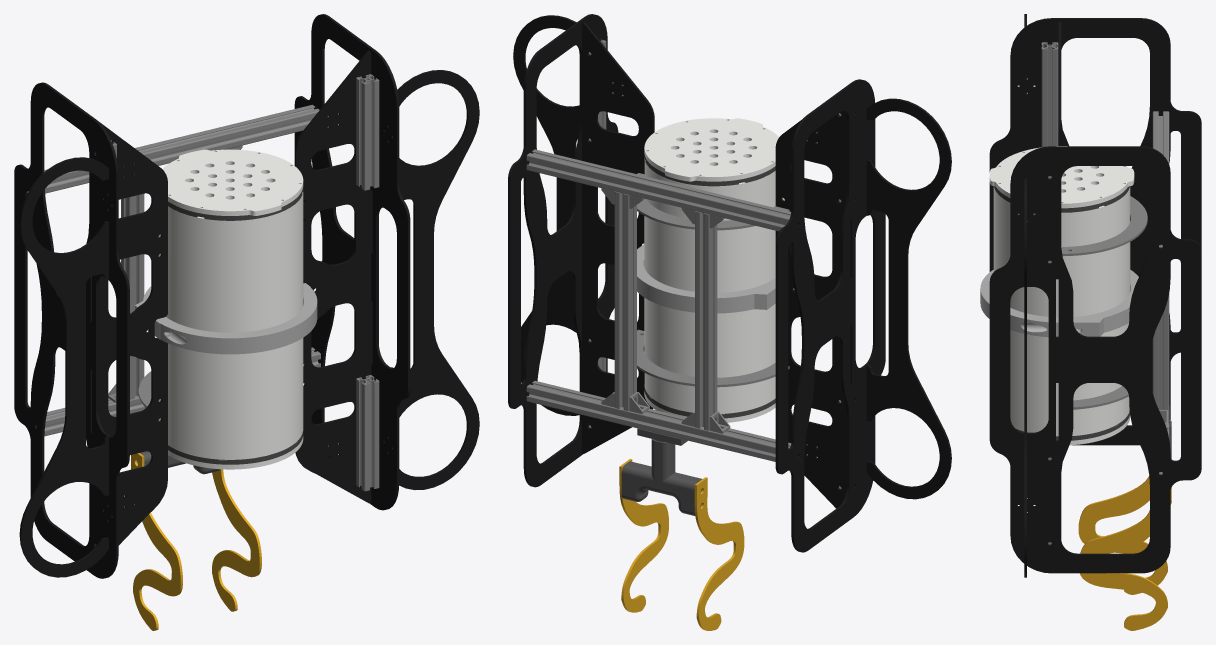
The model's file is jona.fbx.
3 views of the same model, side by side, from view 1: azimuth 30°, elevation 25°; view 2: azimuth 150°, elevation 25°; view 3: azimuth 270°, elevation 25° (orthographic). The views are drawn at different scales.
Visible parts, largest first — view 1: Body1 (×8), Body3 (×2), Body2 (×3), Top Clamp, Body11, Body10, Left Acrylic, RightAcrylic, Body12; view 2: Body1 (×6), Body2 (×3), Body3 (×2), Body13, Body12, Mount, Middle, RightAcrylic, Left Acrylic, Front, Back; view 3: Body1 (×5), Body2 (×3), Left Acrylic, RightAcrylic, Body9, Body3 (×2), Body13, Middle, Back, Top Clamp, Front.
Part boxes in pixels (x1,y1,x2,y2): Body1 (×8): [14, 14, 410, 578]; Body3 (×2): [294, 50, 479, 503]; Body2 (×3): [44, 104, 319, 545]; Top Clamp: [154, 283, 317, 354]; Body11: [356, 74, 379, 190]; Body10: [356, 375, 379, 491]; Left Acrylic: [212, 469, 261, 611]; RightAcrylic: [131, 453, 182, 630]; Body12: [121, 174, 144, 399]; Body1 (×6): [508, 14, 951, 552]; Body2 (×3): [526, 110, 850, 508]; Body3 (×2): [513, 15, 654, 453]; Body13: [614, 191, 636, 411]; Body12: [695, 211, 717, 430]; Mount: [621, 439, 702, 515]; Middle: [637, 245, 775, 313]; RightAcrylic: [694, 477, 744, 630]; Left Acrylic: [619, 459, 668, 612]; Front: [637, 329, 789, 387]; Back: [637, 173, 789, 230]; Body1 (×5): [989, 18, 1201, 573]; Body2 (×3): [989, 21, 1169, 247]; Left Acrylic: [1080, 488, 1171, 630]; RightAcrylic: [1078, 476, 1167, 594]; Body9: [1041, 42, 1058, 147]; Body3 (×2): [1024, 177, 1061, 577]; Body13: [1152, 293, 1169, 423]; Middle: [1073, 270, 1138, 336]; Back: [1062, 196, 1147, 256]; Top Clamp: [980, 270, 1058, 337]; Front: [1073, 386, 1128, 409].
Size of the model in its own units: 599 by 706 by 267.
